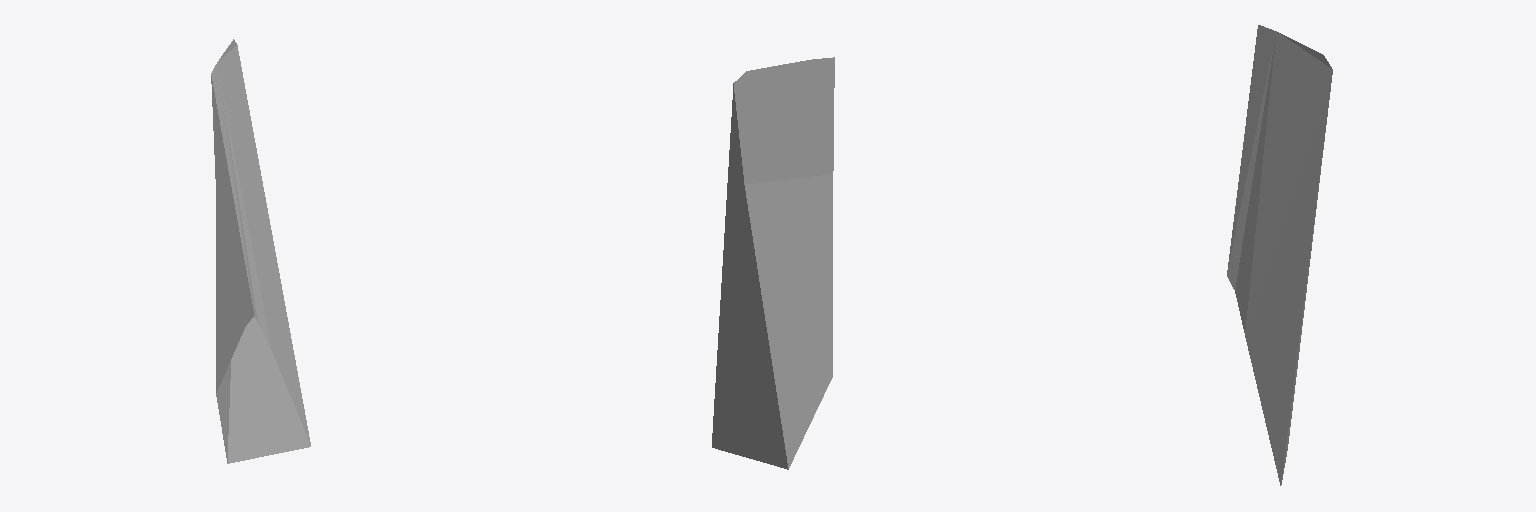
Rendered from li-fang-ti-.001_cell.125.obj.
The picture shows the model from 3 angles: view 1: azimuth 30°, elevation 25°; view 2: azimuth 150°, elevation 25°; view 3: azimuth 270°, elevation 25°; orthographic projection.
Visible parts, largest first — view 1: 立方体.001_cell.125; view 2: 立方体.001_cell.125; view 3: 立方体.001_cell.125.
Boxes of the visible parts, box(x1,y1,x2,y2) form: 立方体.001_cell.125: box(211, 39, 310, 463); 立方体.001_cell.125: box(712, 57, 834, 469); 立方体.001_cell.125: box(1227, 25, 1332, 485).
Size of the model in its own units: 0.0675 by 0.2364 by 0.0556.